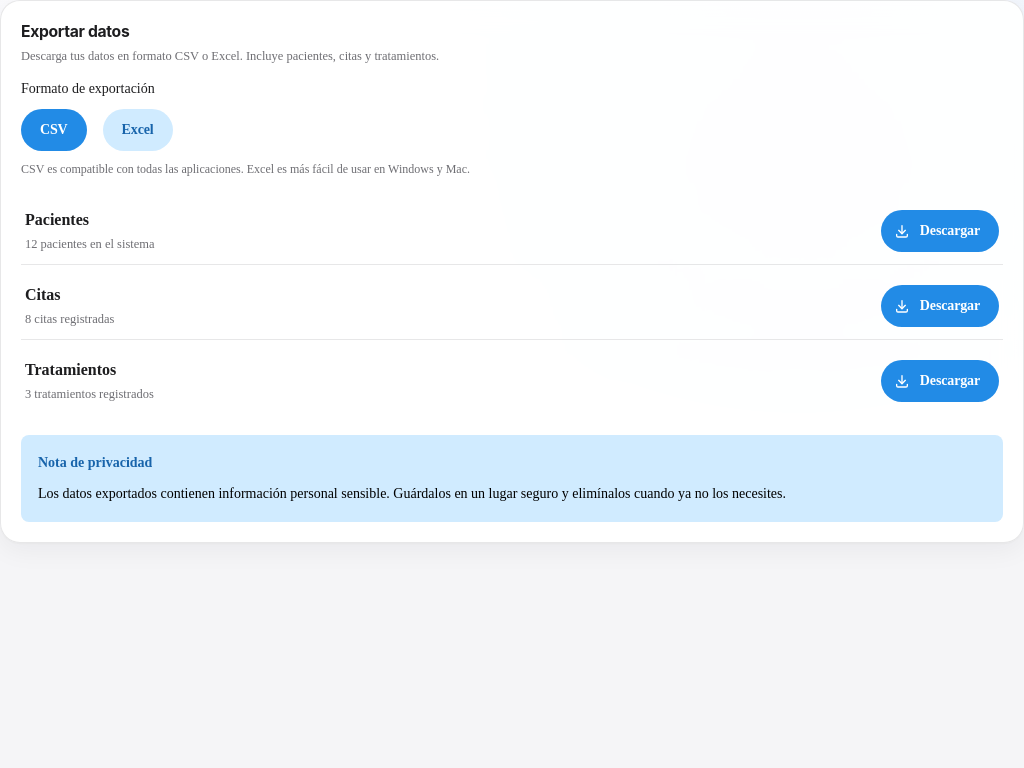
locks format during downloads and uses the Madrid date in the filename
This screenshot has width=1024, height=768.
Expected: the text "12 pacientes en el sistema" is shown, top-left (25, 235), bottom-right (154, 254)
Click the button "Excel" at (138, 130), box top-left (103, 109), bottom-right (173, 151)
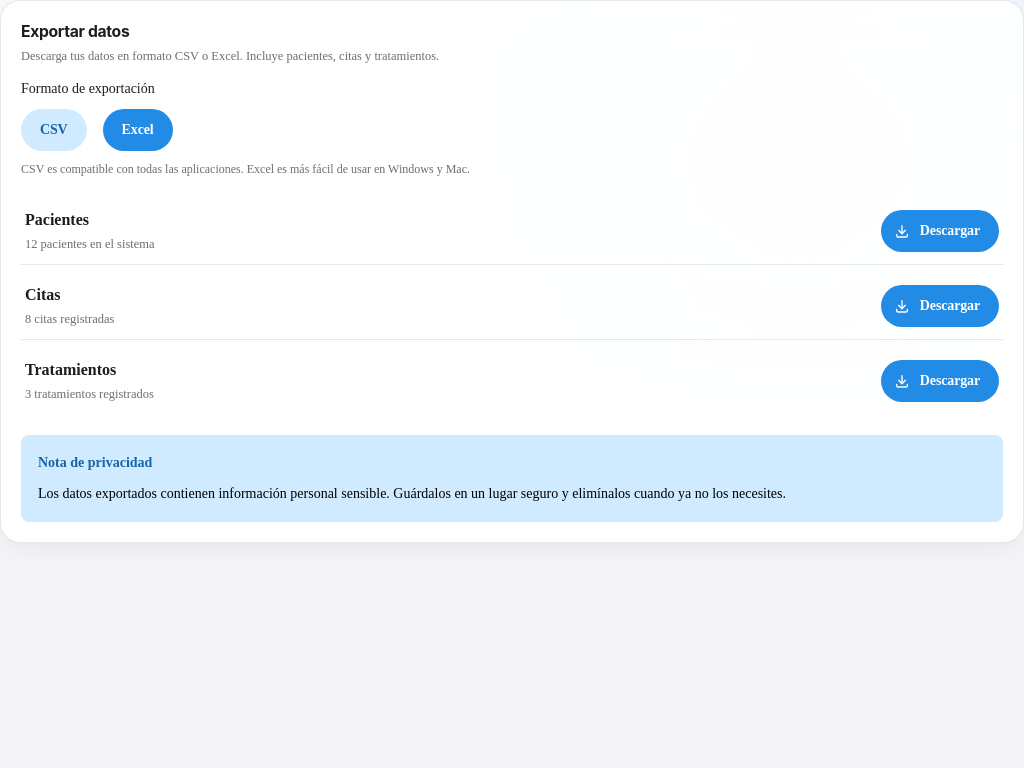
Click the button "Descargar" in the row of "12 pacientes en el sistema" at (940, 231), box top-left (881, 210), bottom-right (999, 252)
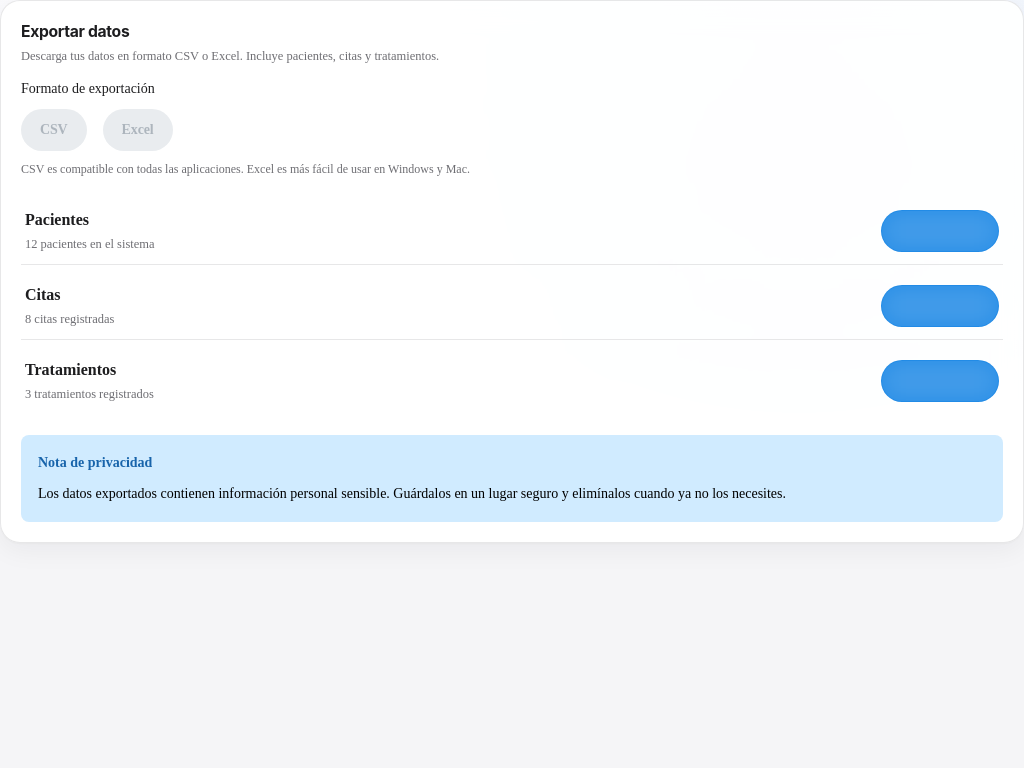
Now the button "CSV" is disabled, box top-left (21, 109), bottom-right (87, 151)
